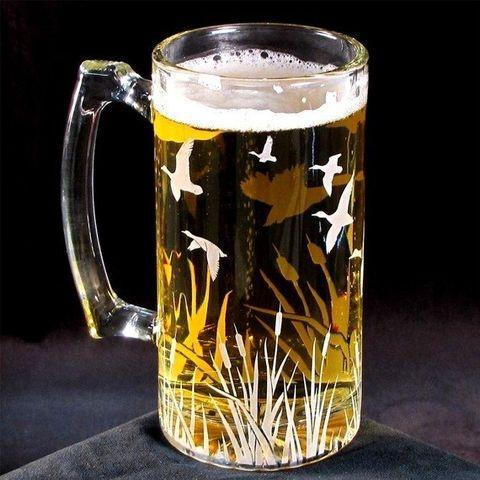glass-mug: (53, 15, 374, 477)
